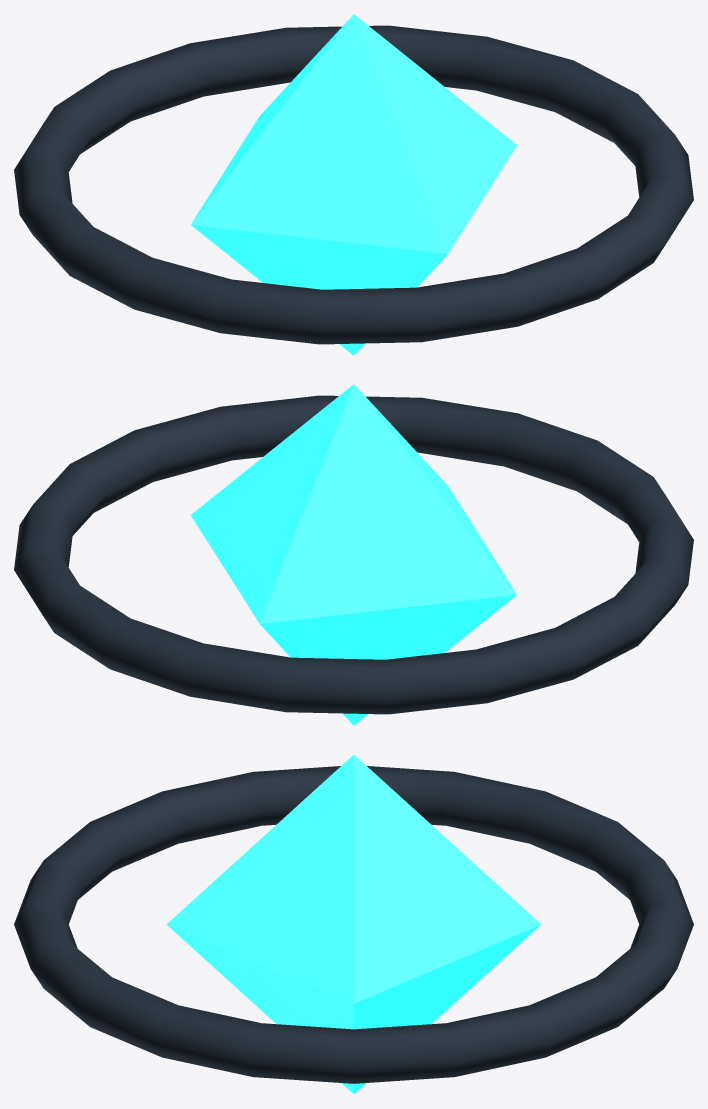
The model's file is cell.glb.
3 renders of one model, top to bottom at view 1: azimuth 30°, elevation 25°; view 2: azimuth 150°, elevation 25°; view 3: azimuth 270°, elevation 25°, orthographic.
Parts seen in each view (by area): view 1: cell_ring, cell_core; view 2: cell_ring, cell_core; view 3: cell_ring, cell_core.
Part boxes in pixels (<box>): cell_ring: <box>14,25,693,344</box>; cell_core: <box>191,14,516,355</box>; cell_ring: <box>14,395,693,714</box>; cell_core: <box>191,384,516,725</box>; cell_ring: <box>14,766,693,1083</box>; cell_core: <box>166,755,541,1093</box>.
Size of the model in its own units: 0.87 by 0.48 by 0.87.
